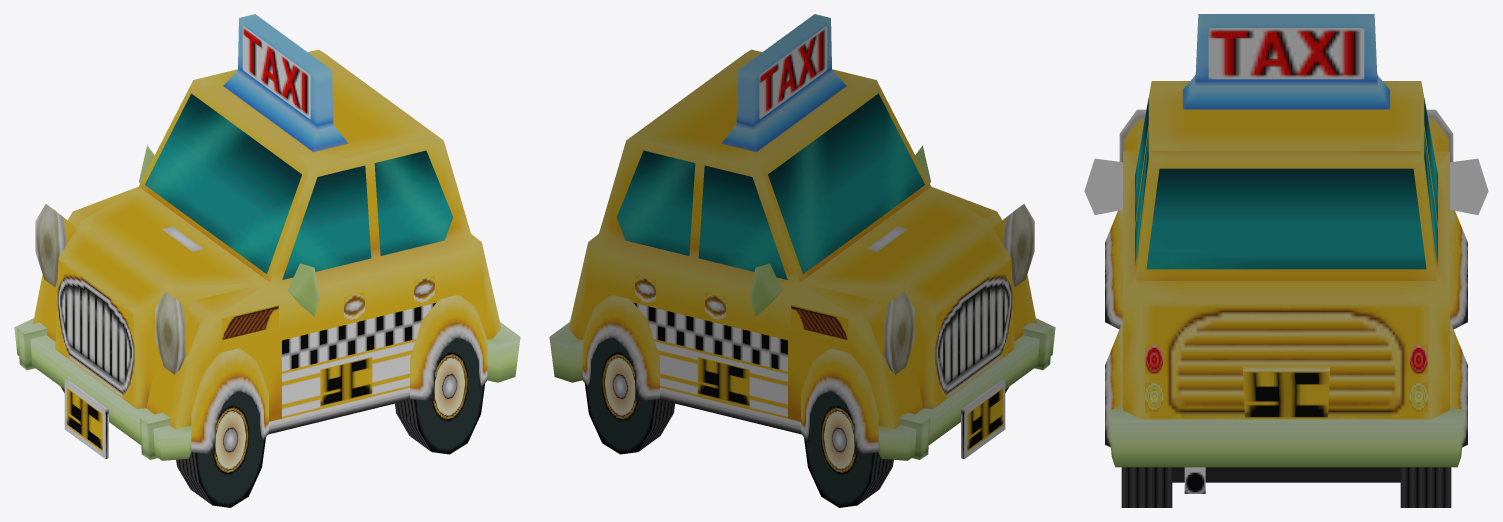
The model's file is view.ico.obj.
3 views of the same model, side by side, from view 1: azimuth 30°, elevation 25°; view 2: azimuth 150°, elevation 25°; view 3: azimuth 270°, elevation 25° (orthographic). The views are drawn at different scales.
Size of the model in its own units: 3.36 by 3.34 by 2.81.
Materials: 1 (1 with a texture image).
